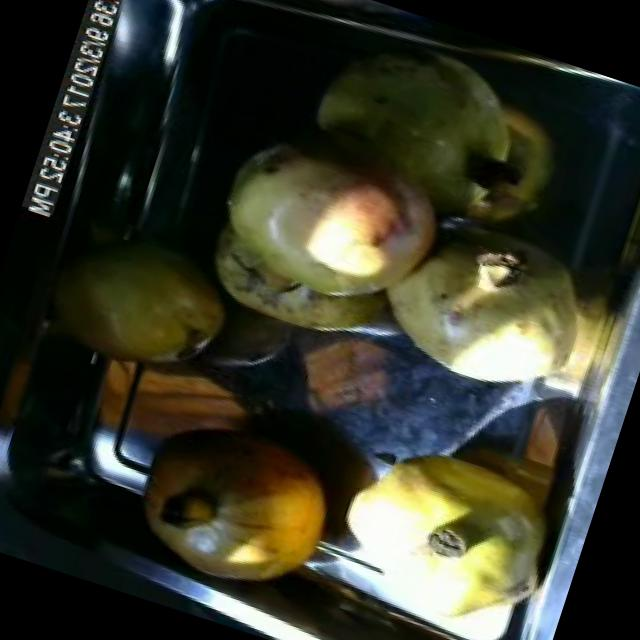fruit: (174, 99, 484, 384), (348, 194, 622, 434), (108, 381, 362, 620), (308, 408, 572, 630)
